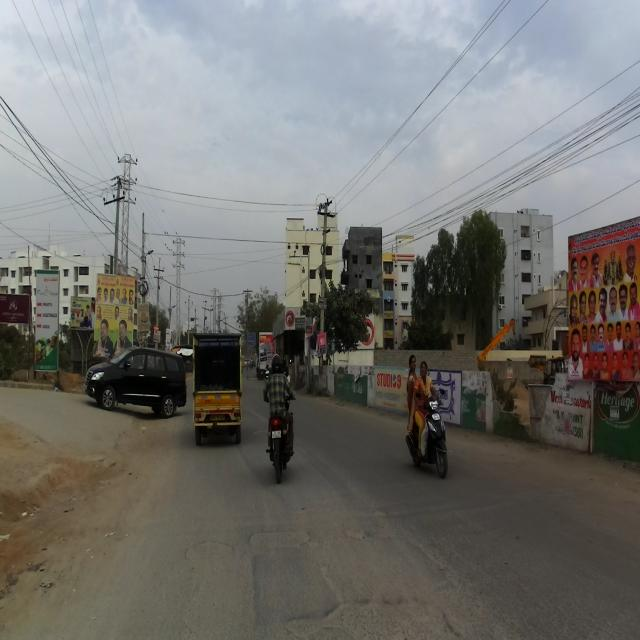car ahead at: (85, 344, 190, 423)
motorcycle ahead at: (409, 388, 454, 484), (260, 405, 296, 479)
truck ahead at: (192, 333, 245, 440)
